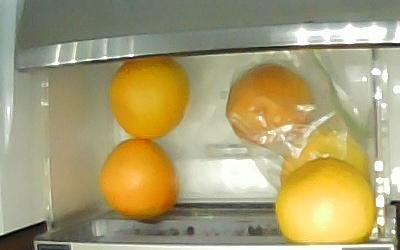grapefruit: (274, 154, 376, 243), (98, 138, 178, 218), (107, 60, 189, 138)
grapefruit_vinyl: (224, 63, 313, 144), (279, 125, 370, 183)
